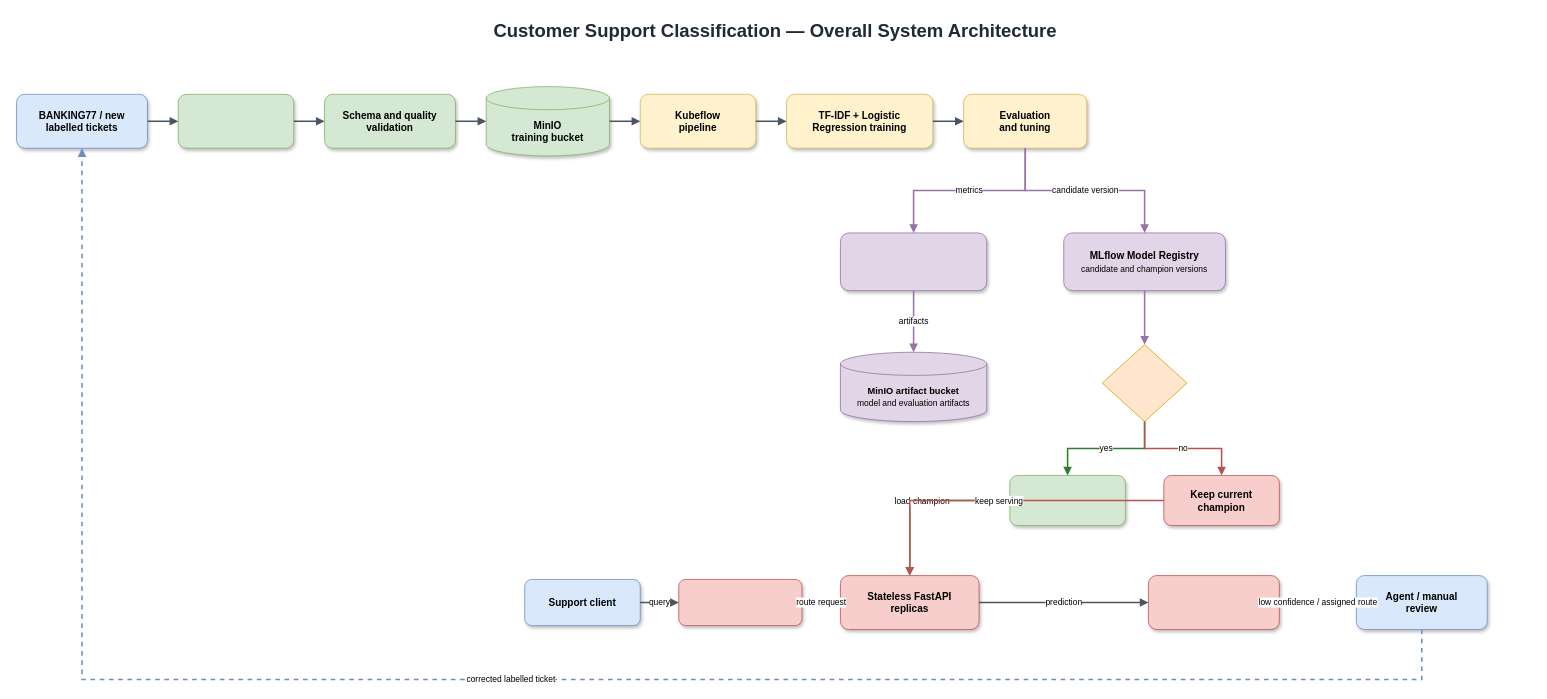
Some shapes in this 1547 by 699 pixel diagram are drawn without their labels. The shapes that lost their labels are listed below. From the top down, each one's centre as x and y in pixels, then its label:
[236,122]: Airflow ingestion
[914,262]: MLflow Tracking parameters · metrics · lineage
[1144,383]: Candidate ≥ champion?
[1068,501]: Assign champion alias
[741,603]: Nginx gateway
[1214,603]: Intent + route + confidence
